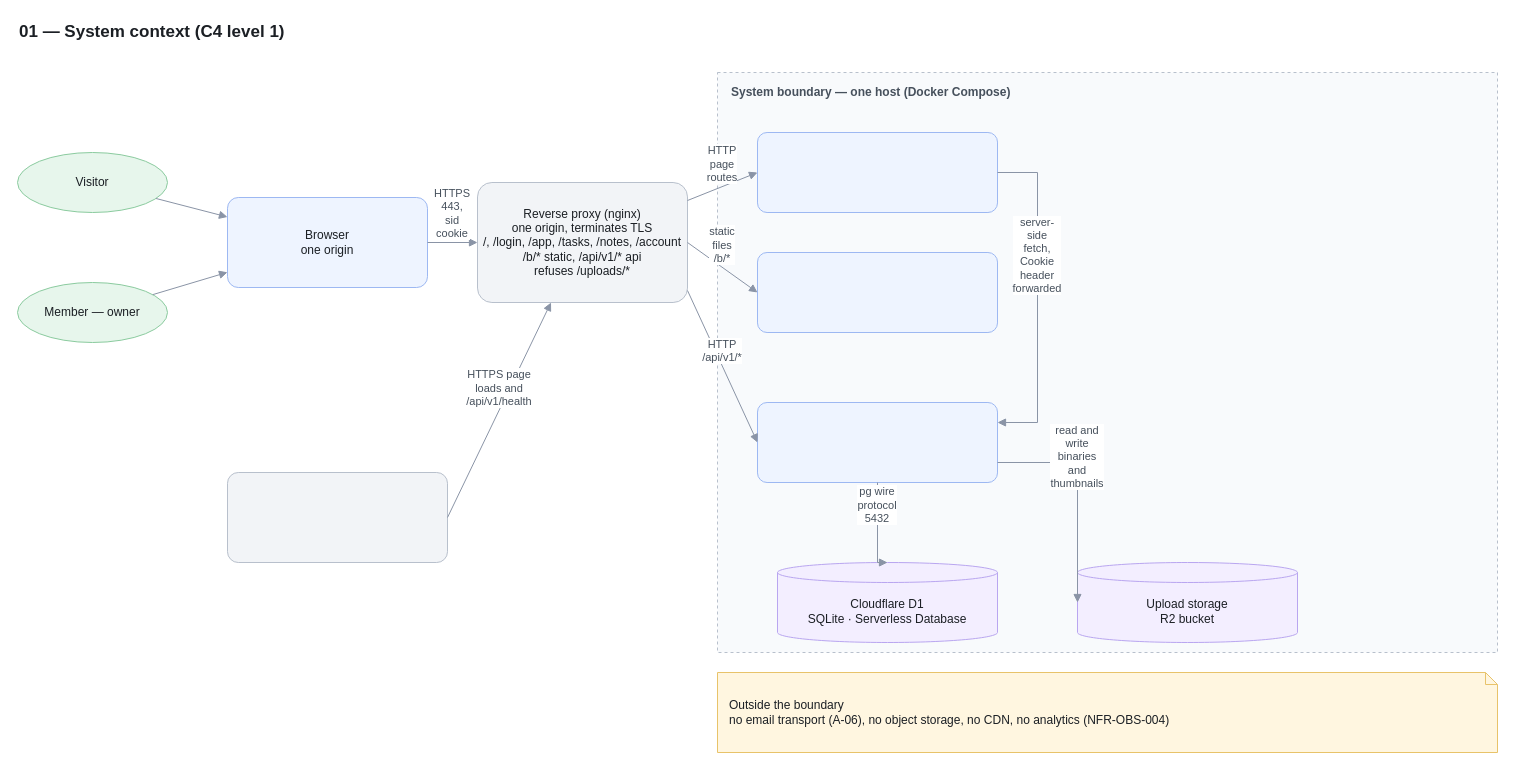
This 1515x770 diagram has some shape labels left out. Here are the shapes that lost their labels. From the top down, the centre of each, then its label:
the point at 877,172: apps/web-astro Astro — on-demand SSR
the point at 877,292: apps/web-next Next — static export under /b
the point at 877,442: apps/api Elysia — REST /api/v1
the point at 337,517: Benchmark harness Playwright + Lighthouse
